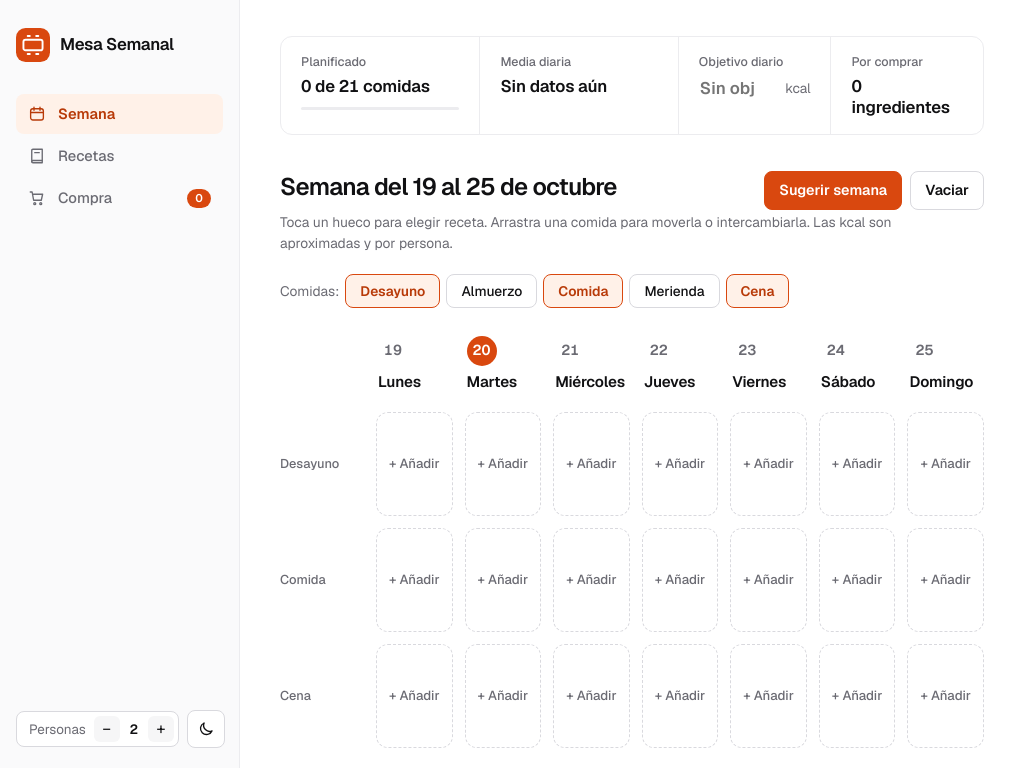
Test: Semana › el selector se cierra con Escape
Click the 1st text "+ Añadir": (414, 464) [389,454,440,474]
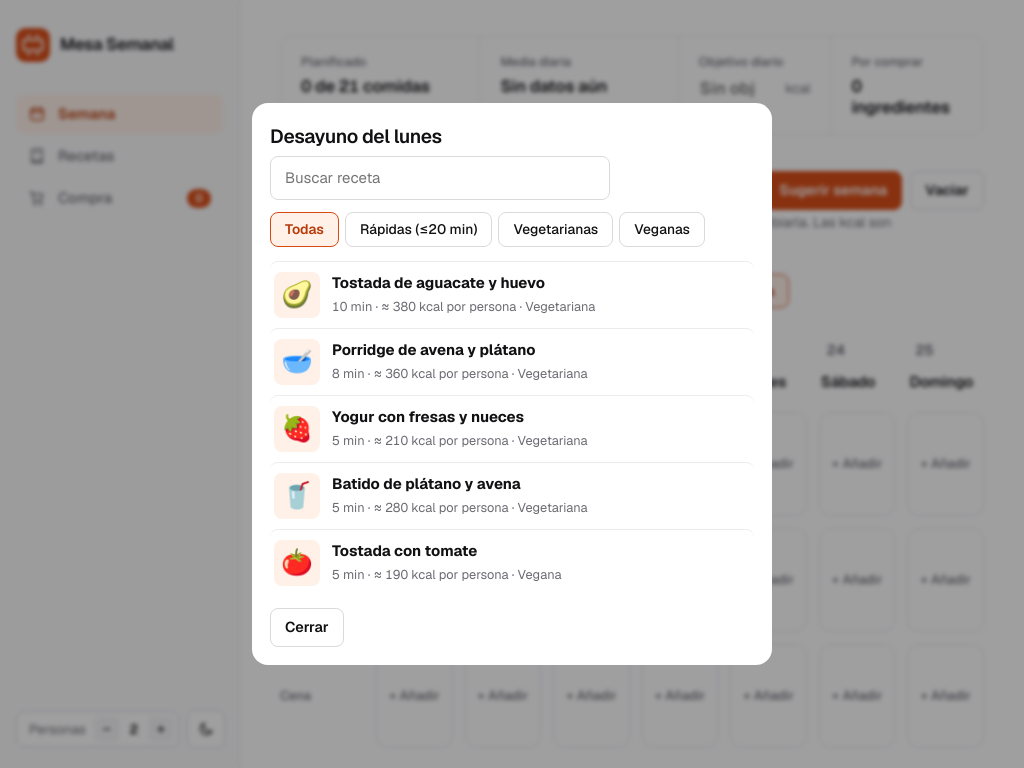
Press Escape
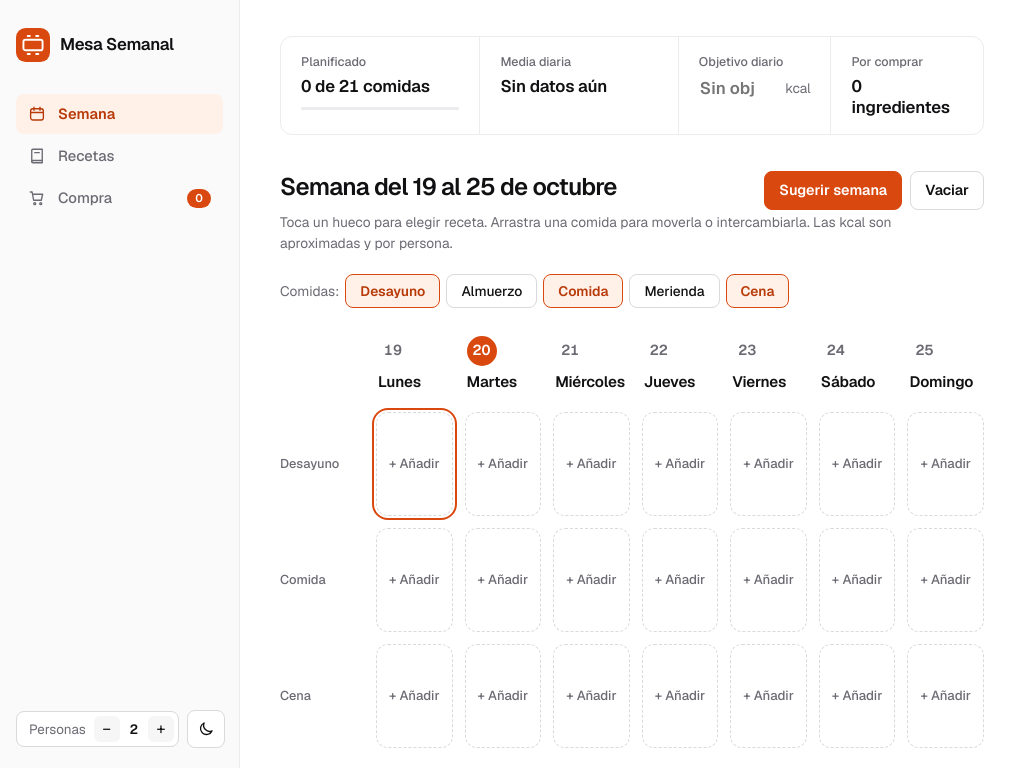
Expected: the dialog is gone
